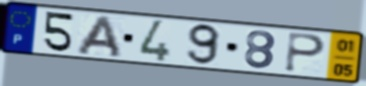4: (137, 19, 174, 64)
5: (43, 10, 75, 53)
8: (243, 30, 277, 70)
9: (185, 22, 224, 68)
A: (74, 14, 124, 60)
P: (282, 31, 328, 75)
